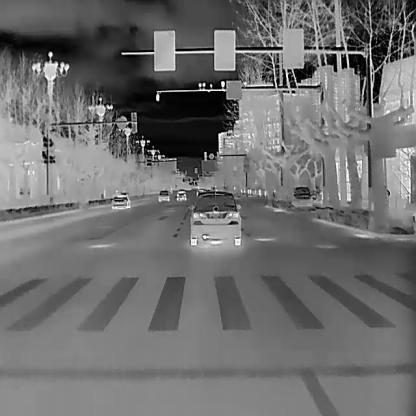car: (190, 190, 241, 245), (291, 184, 312, 206), (110, 192, 130, 208), (158, 189, 169, 201), (176, 190, 186, 200), (195, 188, 204, 196)
